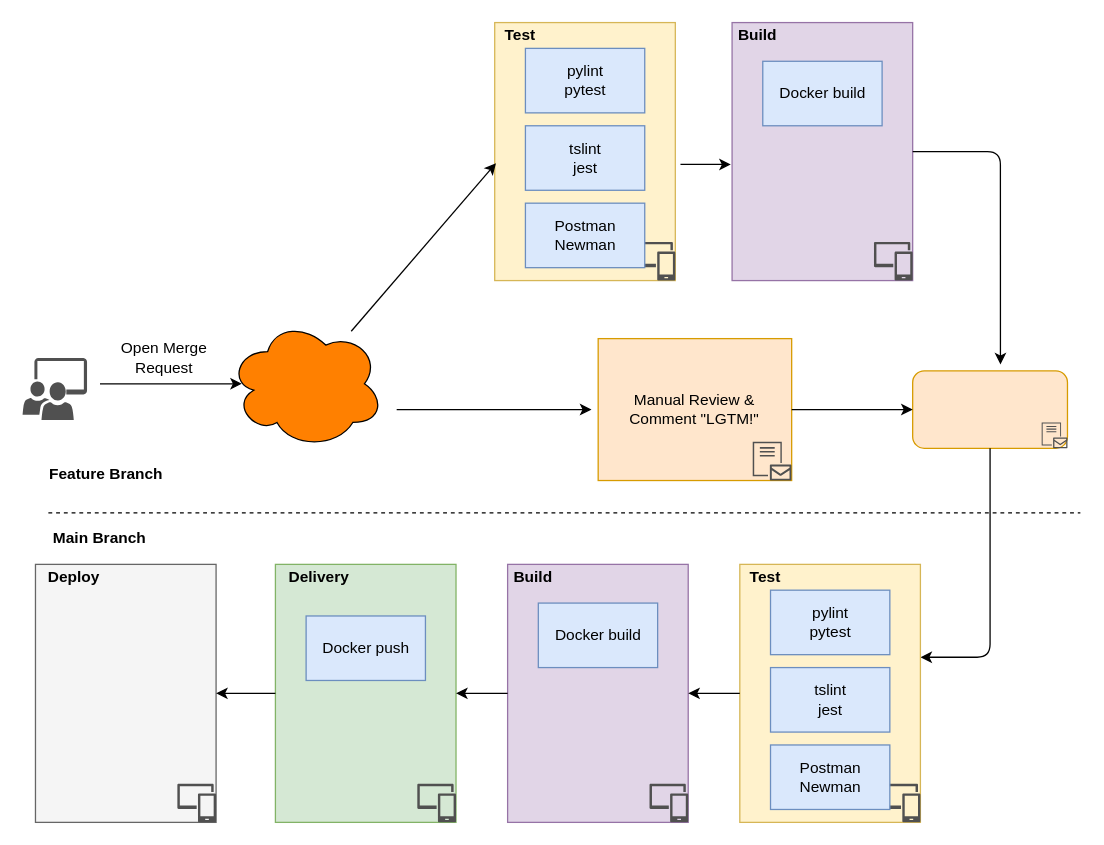
The diagram is 1104 pixels wide and 845 high, and some of its shapes have lost their labels. The shapes that lost their labels are listed below. From the top down, each one's box as (x1, y1, x2, y2) in pixels, then its label:
(228, 318, 384, 448): Gitlab
(911, 370, 1067, 448): Manual Merge
